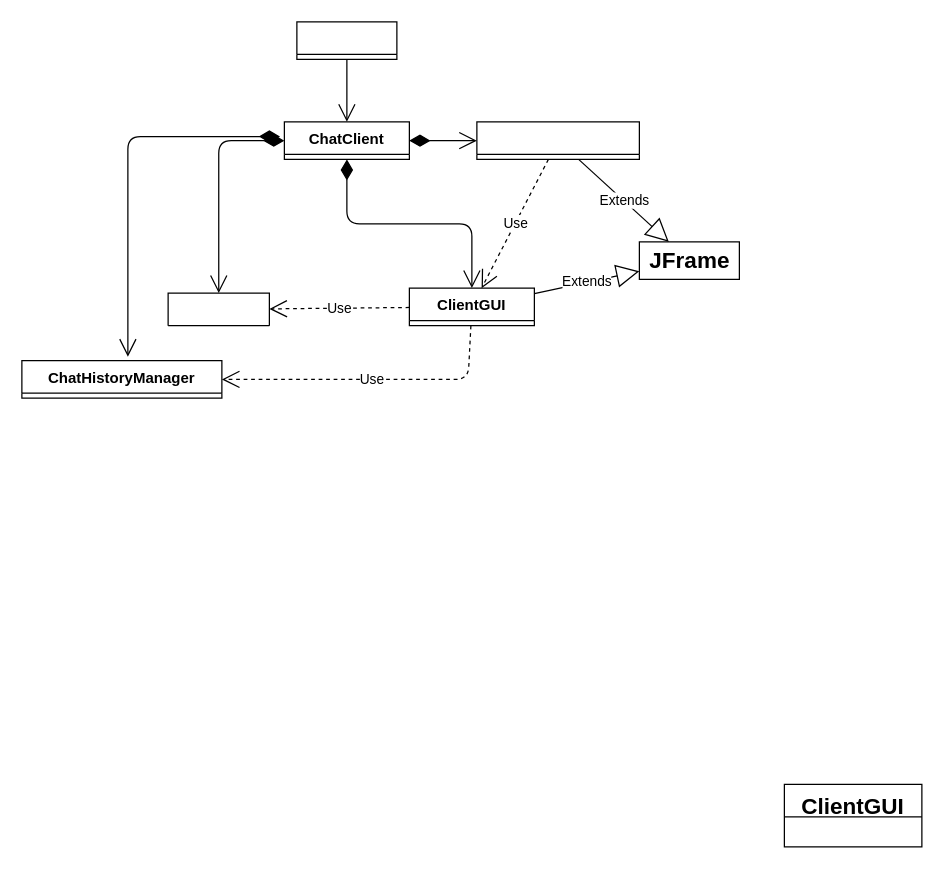
Image size: 944x869. Some labels were removed from this diagram. The shapes that lost their labels are listed below. From the top down, each one's box as (x1, y1, x2, y2) in pixels, then its label:
(296, 21, 397, 59): StartClient
(476, 121, 639, 159): SelectServerGUI
(167, 292, 269, 326): ClientIO
